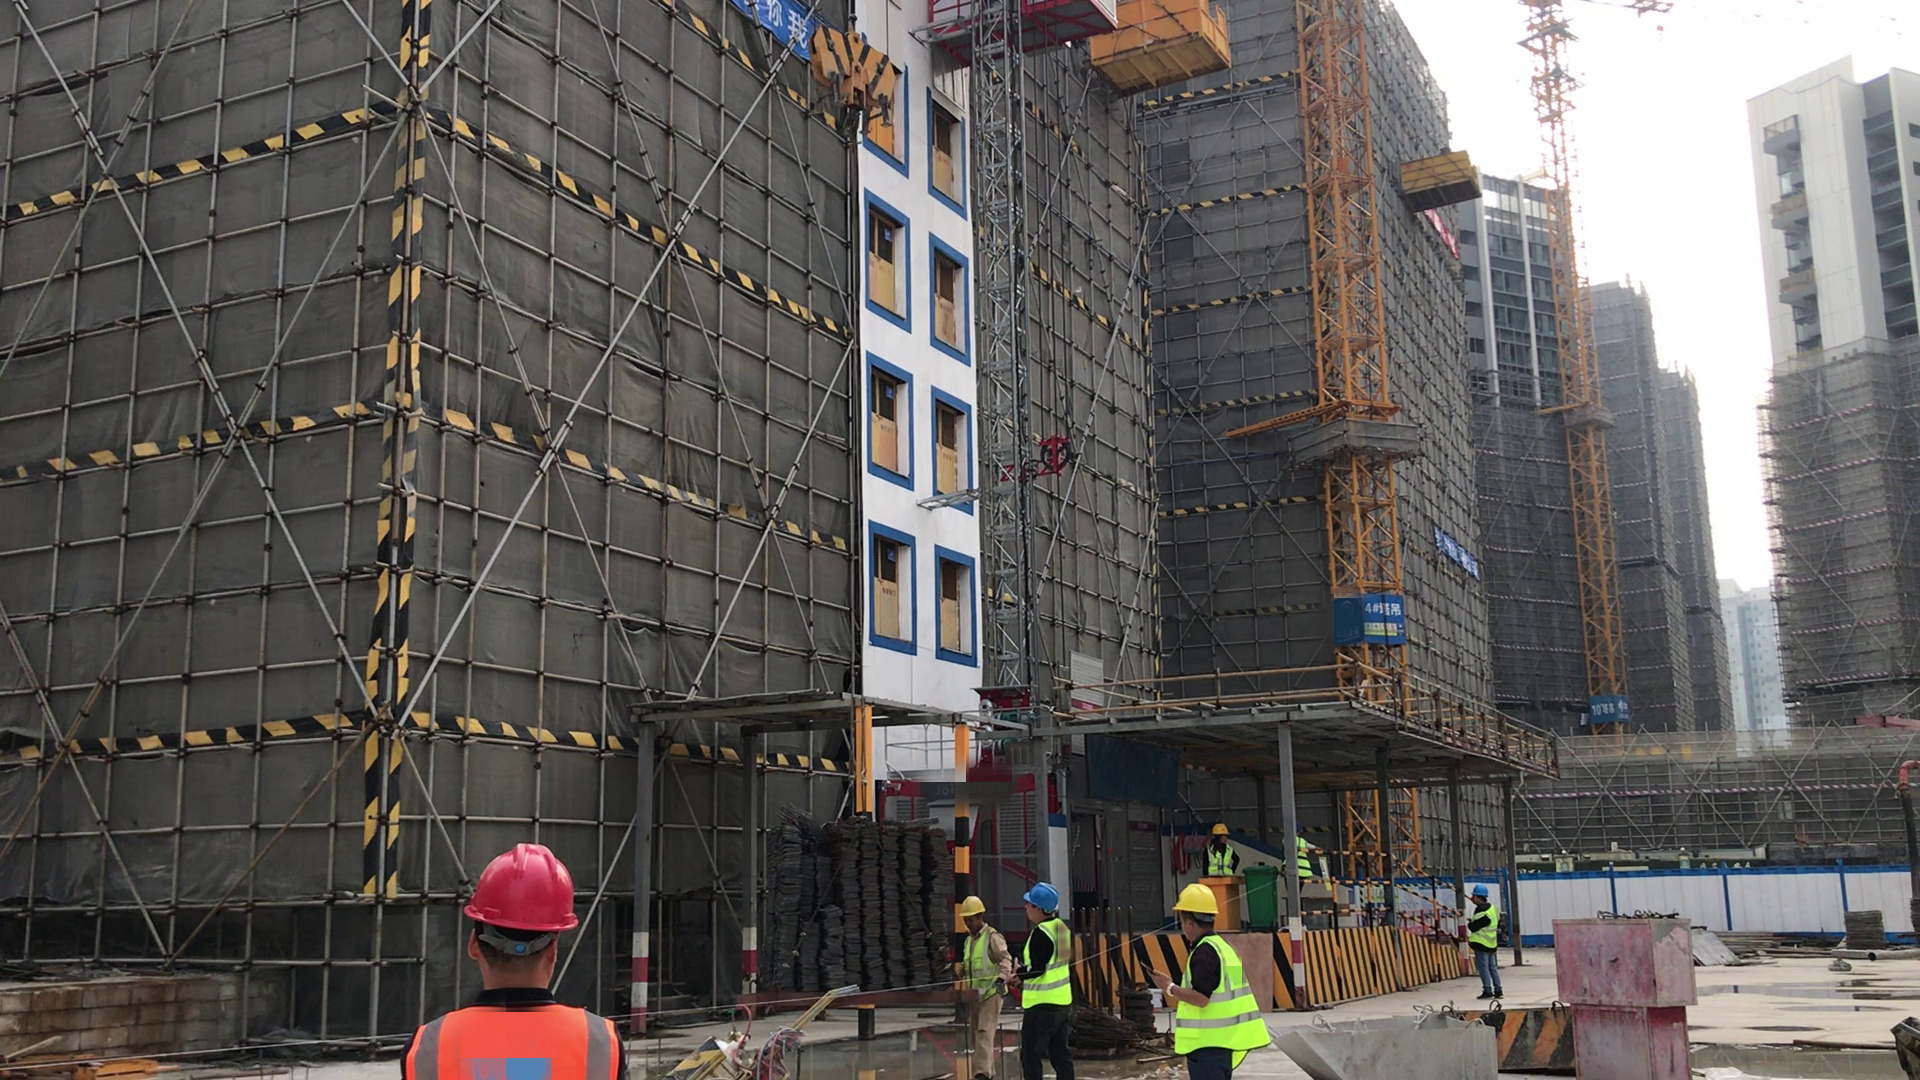helmet: (461, 842, 585, 934), (1168, 879, 1223, 919), (1023, 883, 1061, 915), (960, 891, 984, 926), (1469, 881, 1491, 899), (1213, 822, 1231, 836)
person: (400, 837, 635, 1080), (1135, 879, 1275, 1080), (1016, 877, 1080, 1080), (956, 887, 1015, 1078), (1462, 877, 1512, 1005), (1279, 826, 1327, 890), (1205, 817, 1243, 878)
vest: (396, 988, 620, 1074), (1159, 938, 1268, 1055), (1017, 917, 1075, 1011), (956, 930, 1006, 995)
